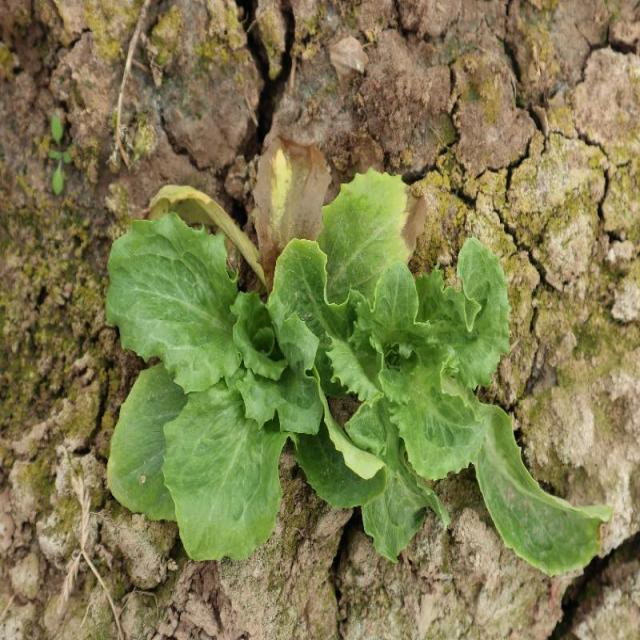crop: (105, 170, 609, 582)
